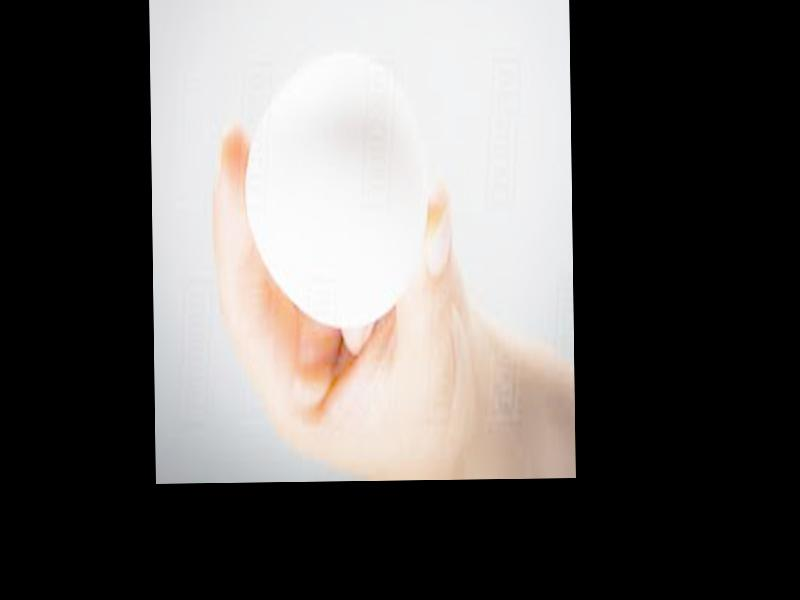Eggs: (241, 55, 428, 317)
